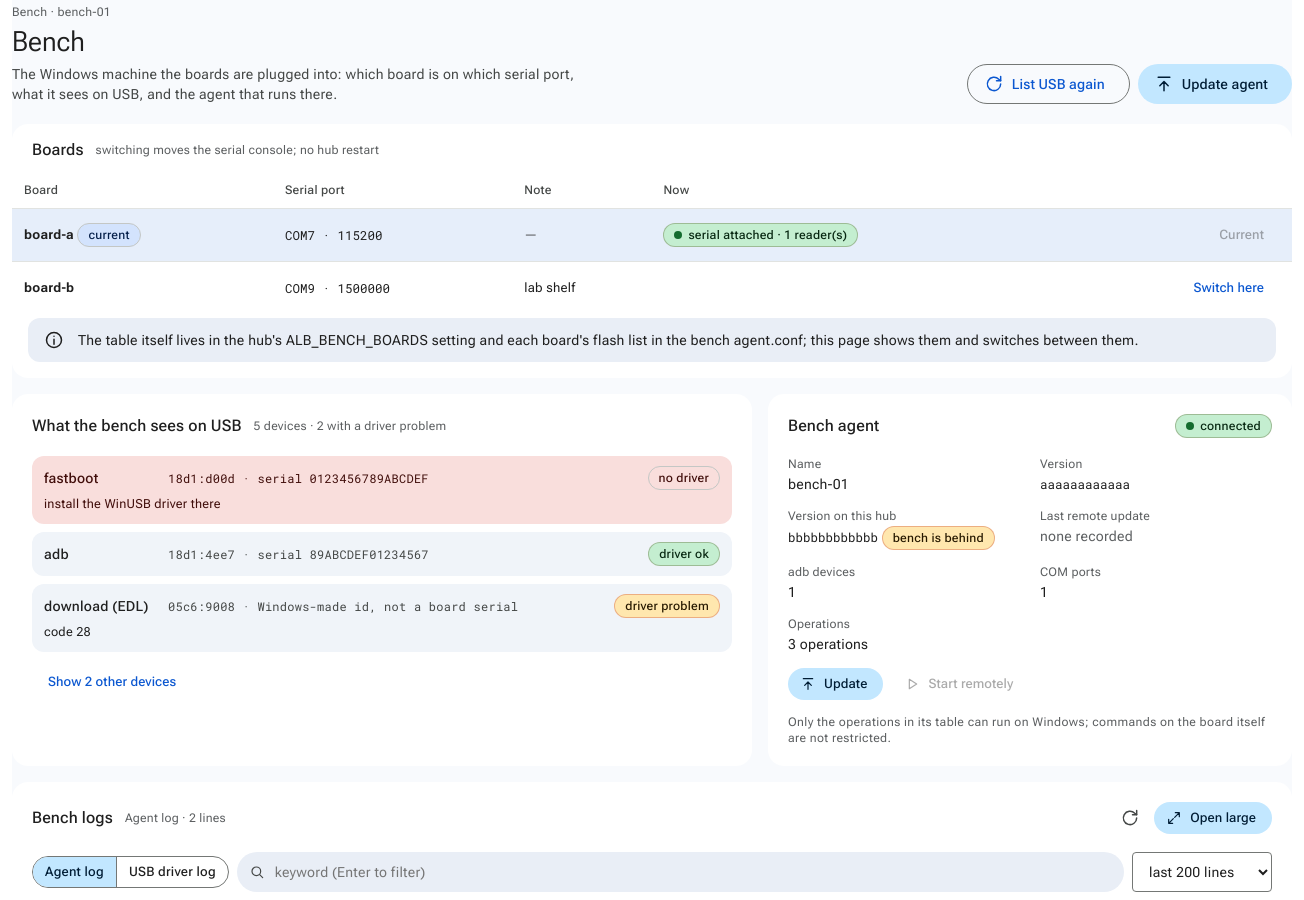
Test: Bench page › USB rows: a missing driver is a red row with its hint, a driver problem is a warning, other devices are folded
This screenshot has width=1304, height=900.
Expected: the text "no driver" is shown, [648,466,720,490]
Expected: the text "install the WinUSB driver there" is shown, [44,496,221,511]
Click the button "Show 2 other devices" at (112, 682), box [32,666,192,698]
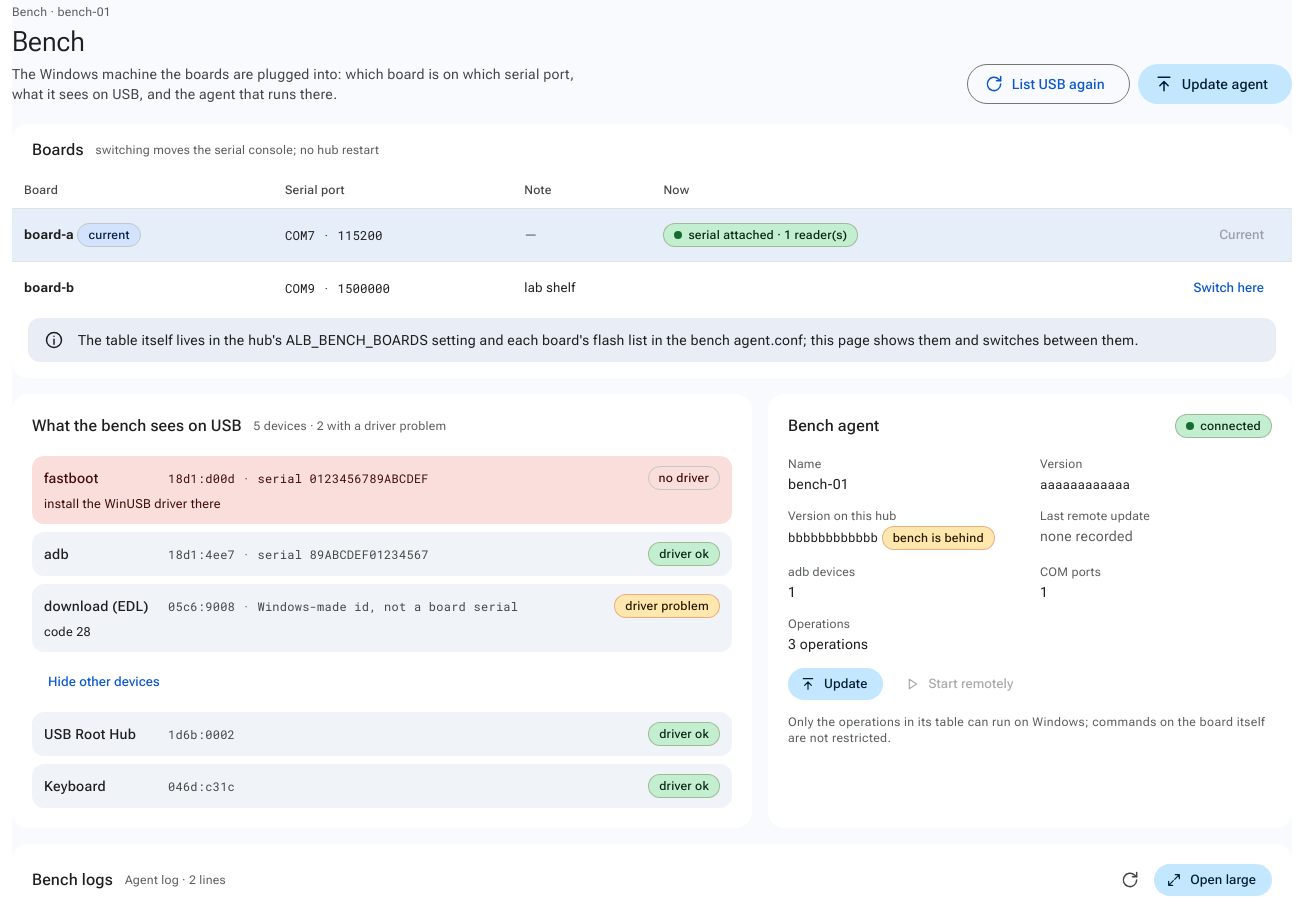
Result: the text "Keyboard" is shown at [44,778,106,794]
